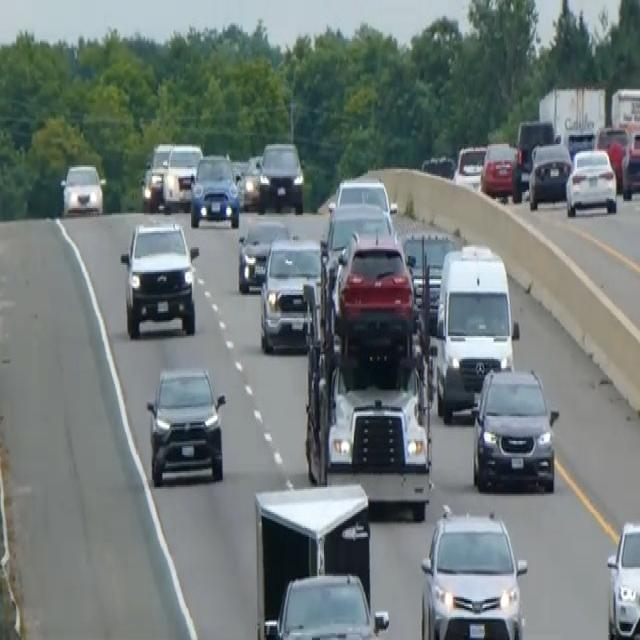car: (419, 502, 528, 638), (470, 363, 559, 494), (332, 228, 416, 359), (145, 363, 226, 485), (119, 218, 199, 338), (263, 569, 389, 638), (259, 233, 325, 352), (320, 199, 393, 285), (402, 228, 461, 320), (605, 518, 639, 638), (236, 217, 289, 293), (189, 151, 240, 229), (564, 146, 617, 217), (258, 139, 304, 213), (331, 174, 396, 224), (527, 138, 572, 210), (514, 116, 556, 190), (161, 140, 202, 210), (479, 139, 522, 201), (60, 160, 104, 215), (594, 122, 629, 188), (142, 140, 173, 210), (238, 153, 266, 211), (453, 142, 486, 190), (620, 128, 639, 199), (421, 151, 455, 180)
lorry: (301, 256, 435, 519)
minibus: (432, 240, 520, 421)
